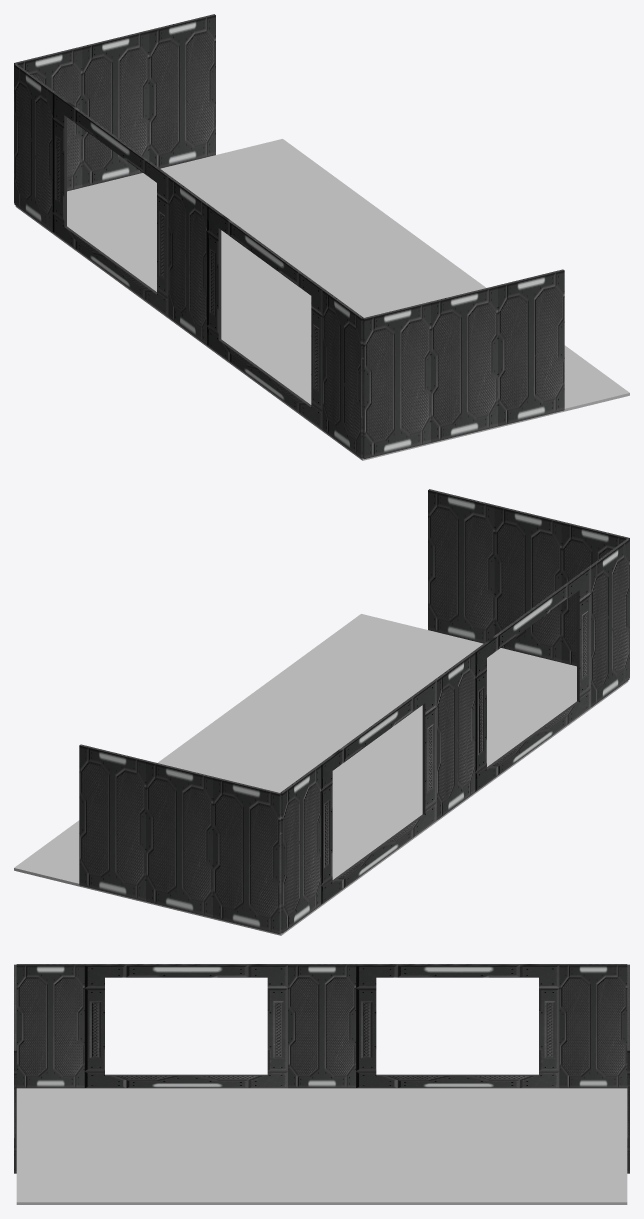
Rendered from Atelier.fbx.
The picture shows the model from 3 angles, top to bottom: view 1: azimuth 30°, elevation 25°; view 2: azimuth 150°, elevation 25°; view 3: azimuth 270°, elevation 25°; orthographic projection. The views are drawn at different scales.
Visible parts, largest first — view 1: Cube.009, Cube.006, Cube.007, Cube.003, Cube.010, Cube.011, Cube, Cube.002, Cube.001, Cube.004, Cube.005, Cube.012; view 2: Cube.009, Cube.012, Cube.011, Cube.010, Cube.003, Cube.007, Cube.002, Cube, Cube.005, Cube.001, Cube.004, Cube.006; view 3: Cube.009, Cube, Cube.002, Cube.001, Cube.005, Cube.004, Cube.003, Cube.010.
Part boxes in pixels (x1,y1,x2,y2): Cube.009: (15, 139, 629, 460); Cube.006: (362, 302, 430, 458); Cube.007: (430, 285, 497, 442); Cube.003: (497, 269, 564, 426); Cube.010: (148, 14, 215, 168); Cube.011: (81, 30, 149, 187); Cube: (52, 92, 170, 316); Cube.002: (207, 205, 324, 429); Cube.001: (322, 289, 363, 458); Cube.004: (168, 177, 209, 344); Cube.005: (14, 64, 54, 231); Cube.012: (14, 46, 82, 202); Cube.009: (14, 614, 628, 935); Cube.012: (213, 777, 281, 933); Cube.011: (146, 760, 213, 917); Cube.010: (79, 744, 146, 901); Cube.003: (428, 489, 495, 643); Cube.007: (494, 505, 562, 662); Cube.002: (473, 567, 591, 791); Cube: (319, 680, 436, 904); Cube.005: (280, 764, 321, 933); Cube.001: (589, 539, 629, 706); Cube.004: (434, 652, 475, 819); Cube.006: (561, 521, 629, 677); Cube.009: (16, 1088, 627, 1204); Cube: (356, 964, 559, 1088); Cube.002: (84, 964, 287, 1088); Cube.001: (16, 964, 84, 1088); Cube.005: (559, 964, 627, 1088); Cube.004: (288, 964, 355, 1088); Cube.003: (14, 1022, 16, 1173); Cube.010: (627, 1022, 629, 1173).
Size of the model in its own units: 2010 by 1020 by 4540.
